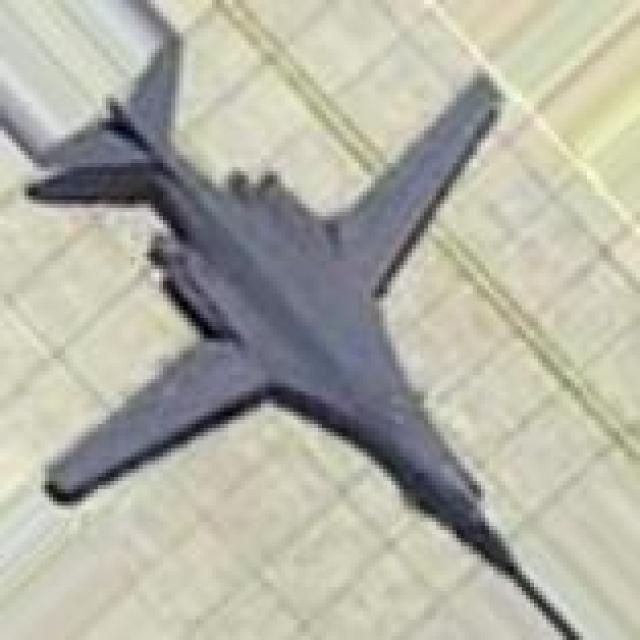B-1_TopDown: (0, 0, 603, 636)
